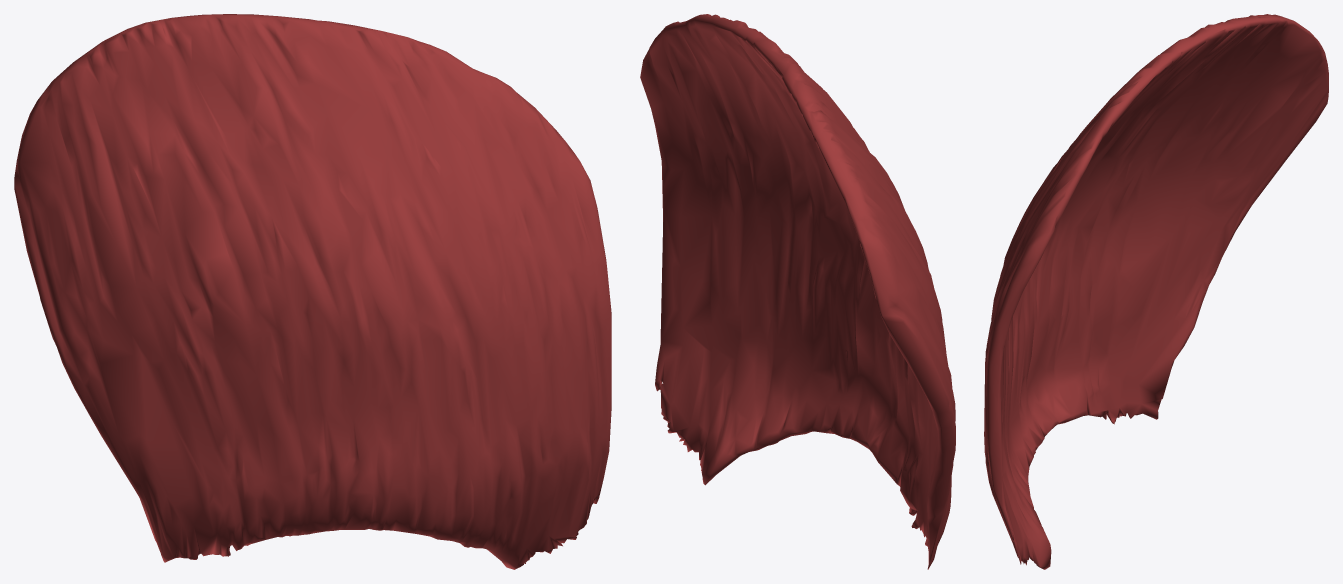
Rendered from frontalis-muscle-r.glb.
3 renders of one model, left to right at view 1: azimuth 30°, elevation 25°; view 2: azimuth 150°, elevation 25°; view 3: azimuth 270°, elevation 25°, orthographic. The views are drawn at different scales.
Visible parts, largest first — view 1: Frontalis muscle.r; view 2: Frontalis muscle.r; view 3: Frontalis muscle.r.
Boxes of the visible parts, box(x1,y1,x2,y2) form: Frontalis muscle.r: box(14, 14, 611, 569); Frontalis muscle.r: box(640, 14, 955, 569); Frontalis muscle.r: box(984, 14, 1328, 569).
Bounding box in the file's own units: 0.0584 × 0.0701 × 0.0469.
